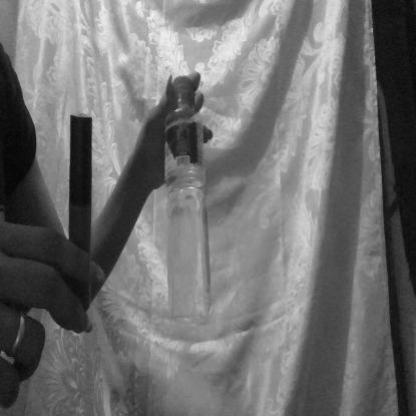Plastic Bottle: (148, 40, 242, 394)
